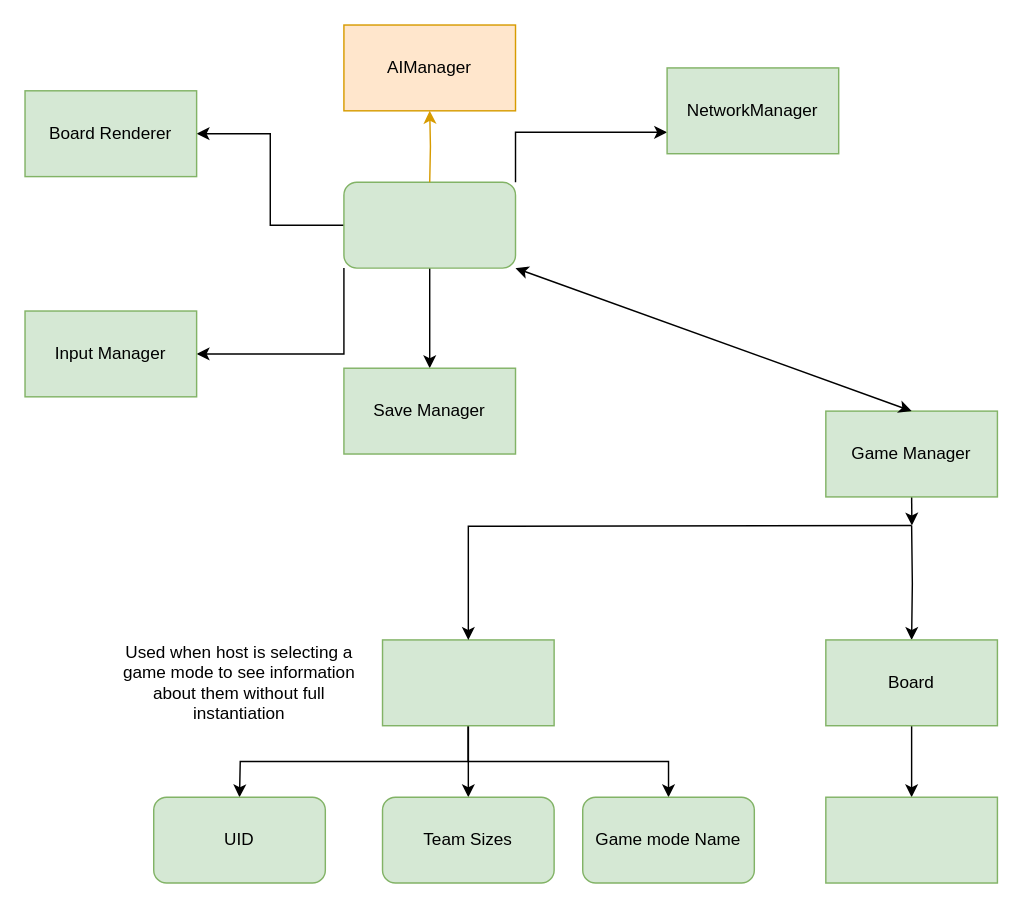
This 1022x908 diagram has some shape labels left out. The centre of each missing label's shape, as x and y in pixels:
Chess Manager: [429,224]
Game Manager (Data Only): [467,682]
Pieces: [910,839]
